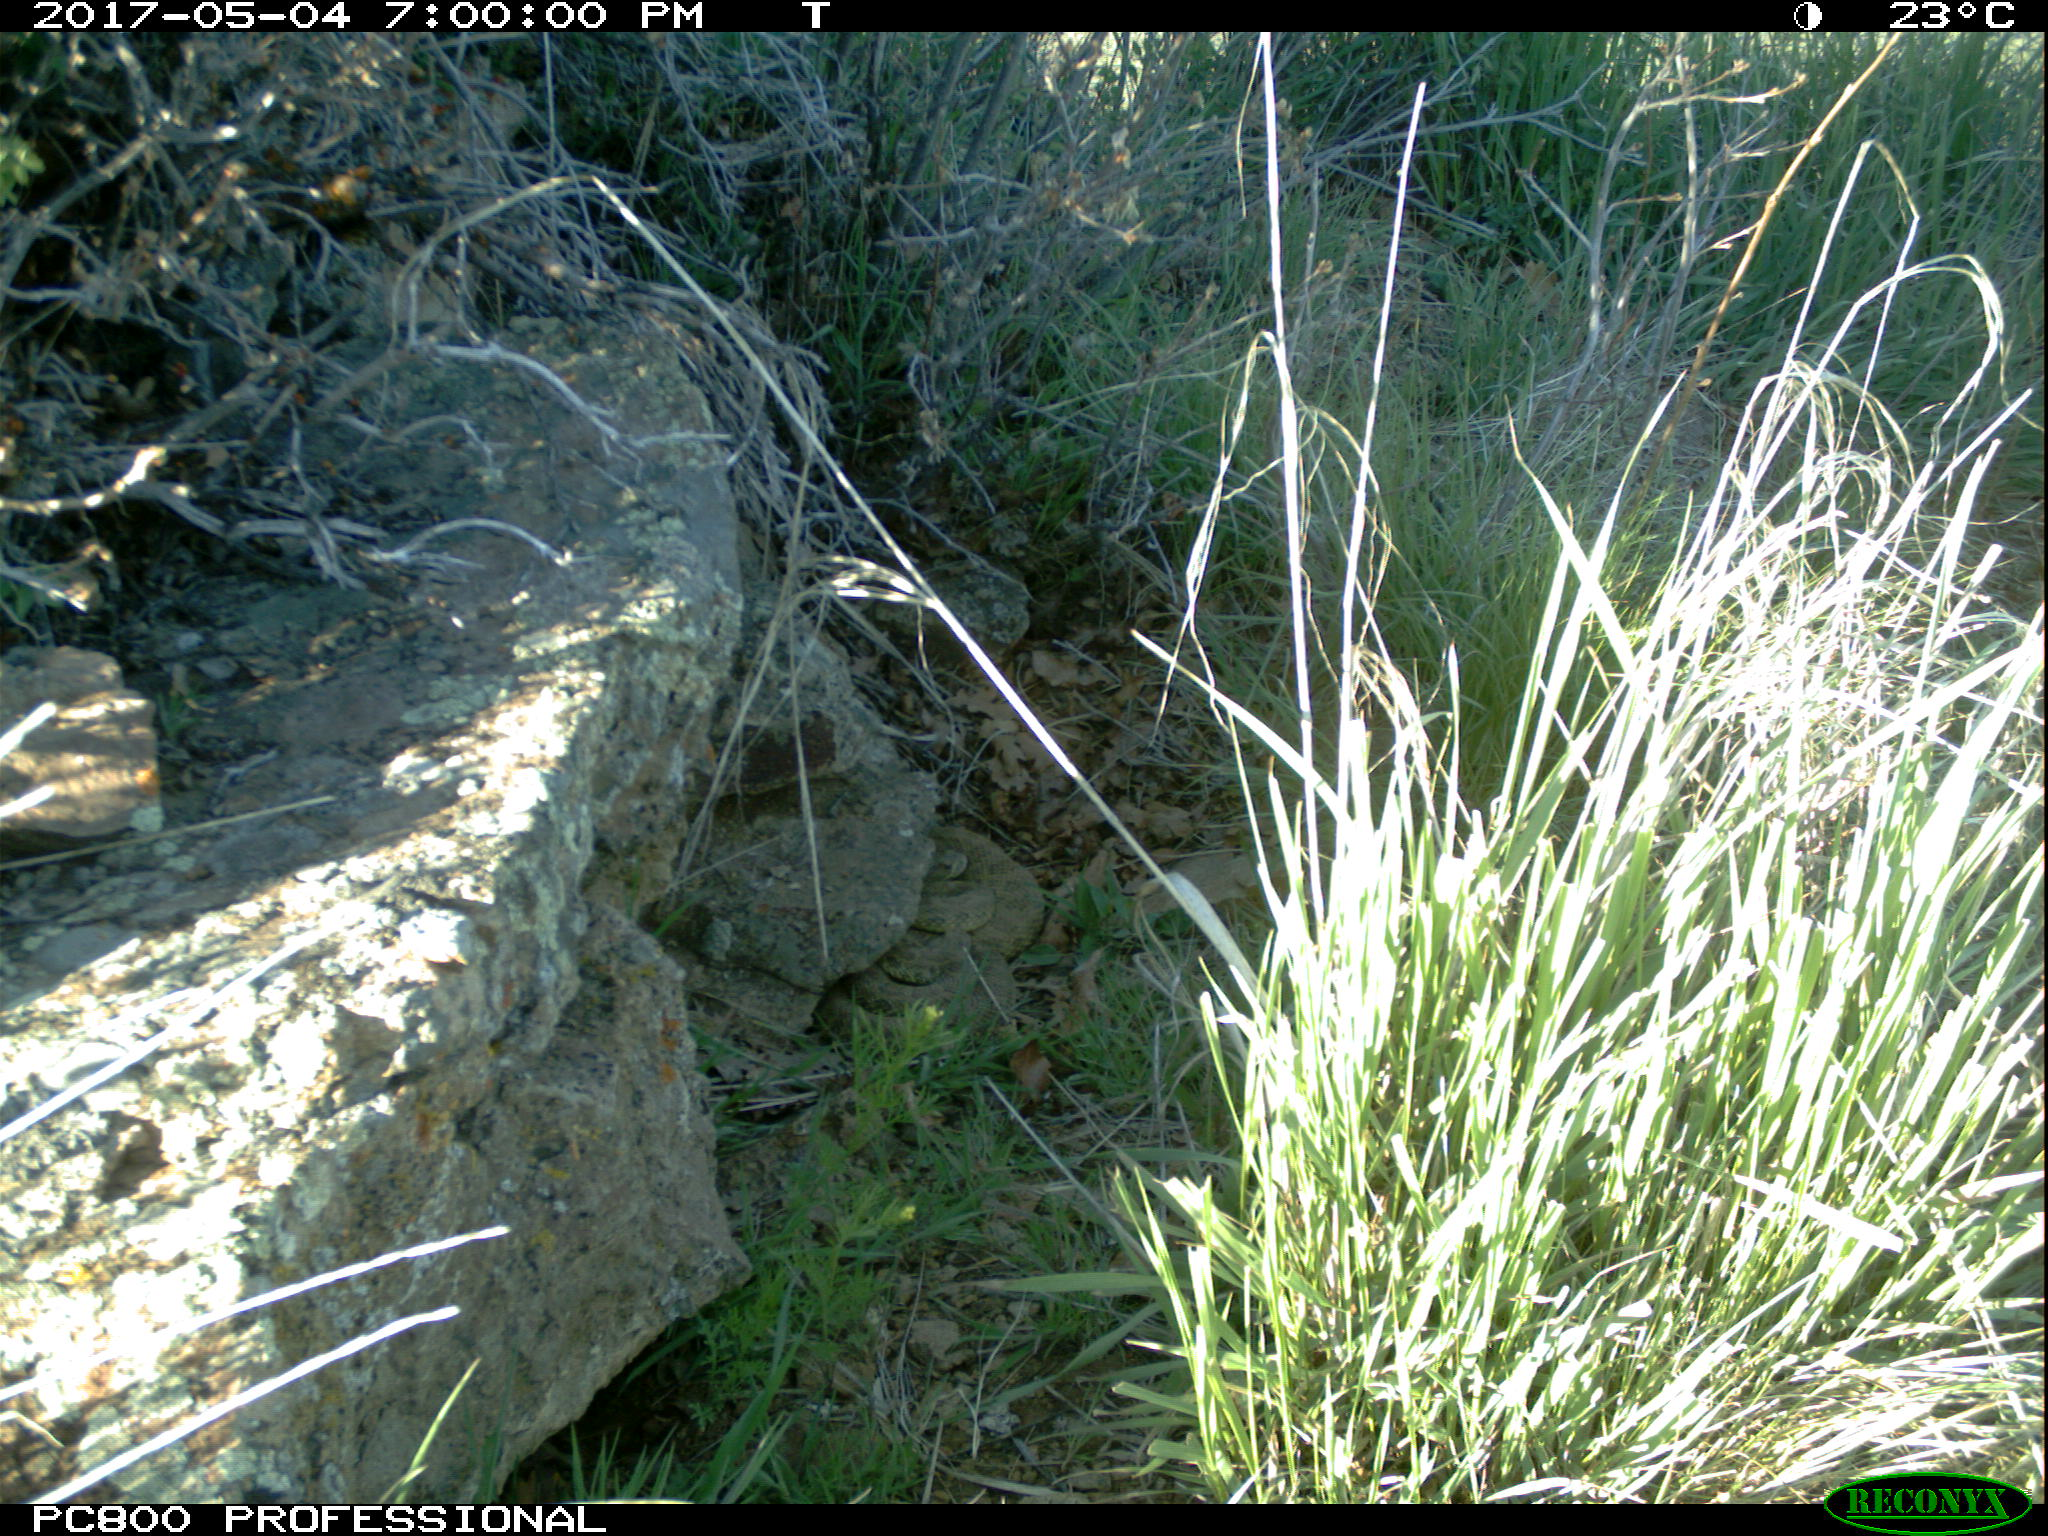snake: (819, 828, 1043, 1037)
